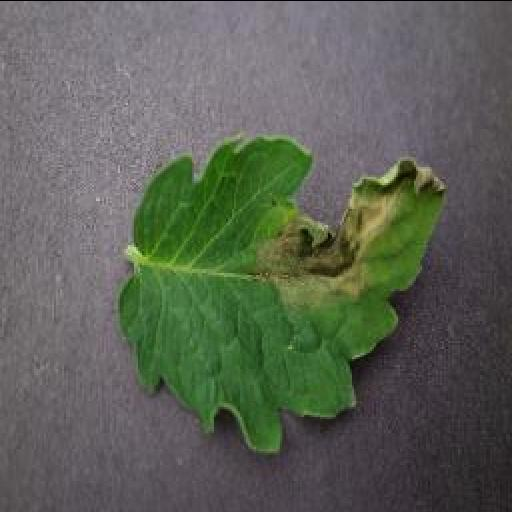disease_tomato: (116, 132, 450, 452)
